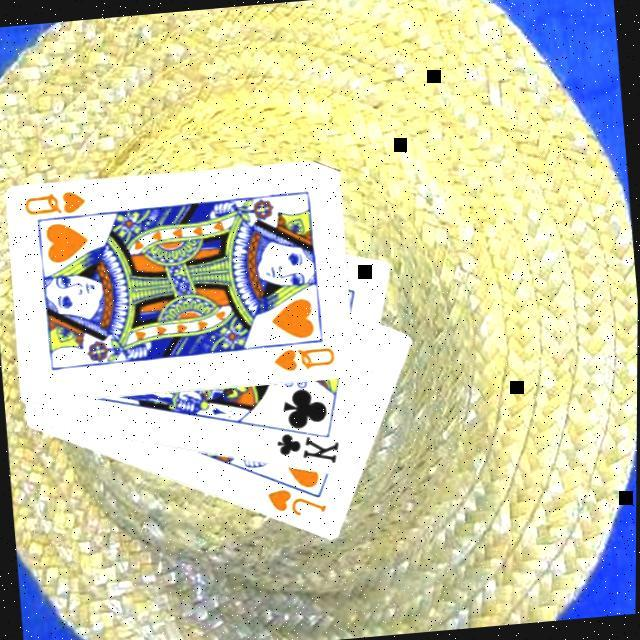JH: (260, 480, 330, 522)
KC: (267, 416, 343, 471)
QH: (18, 186, 97, 227), (268, 340, 338, 376)
